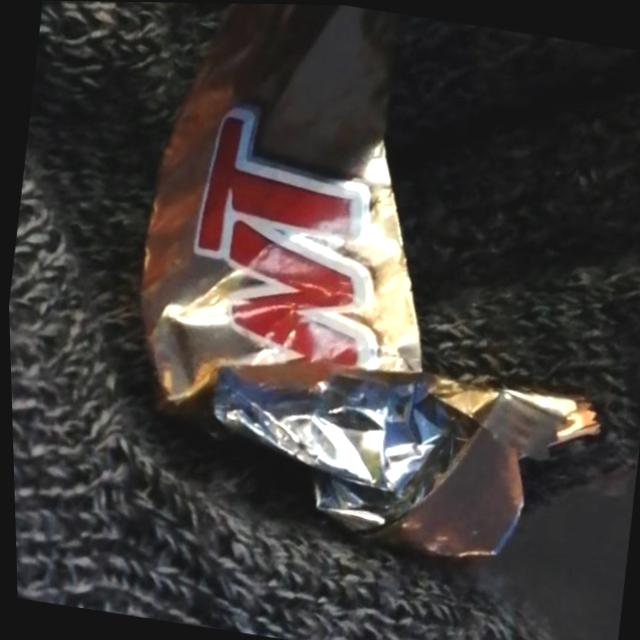Plastic: (95, 1, 640, 584)
